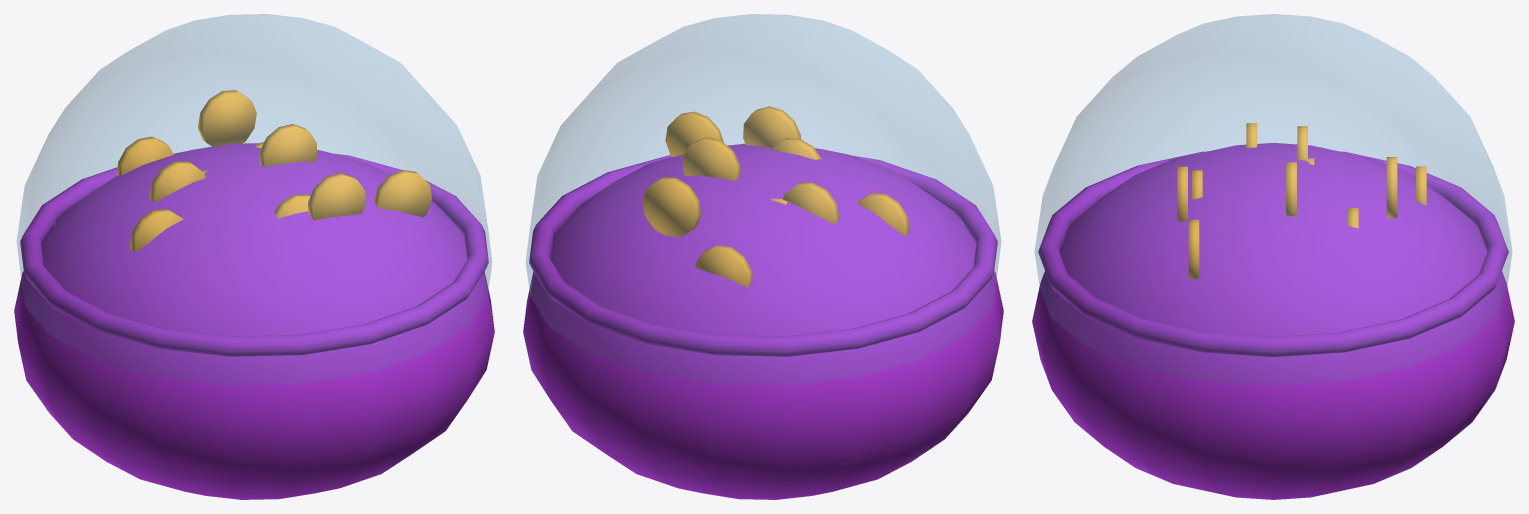
File: SM_RareCapsule.fbx
3 views of the same model, side by side, from view 1: azimuth 30°, elevation 25°; view 2: azimuth 150°, elevation 25°; view 3: azimuth 270°, elevation 25° (orthographic).
Parts seen in each view (by area): view 1: SM_RareCapsule; view 2: SM_RareCapsule; view 3: SM_RareCapsule.
Part boxes in pixels (box(x1,y1,x2,y2)): SM_RareCapsule: box(14, 14, 494, 499); SM_RareCapsule: box(523, 14, 1003, 499); SM_RareCapsule: box(1032, 14, 1514, 499).
Size of the model in its own units: 2.02 by 2.02 by 2.
